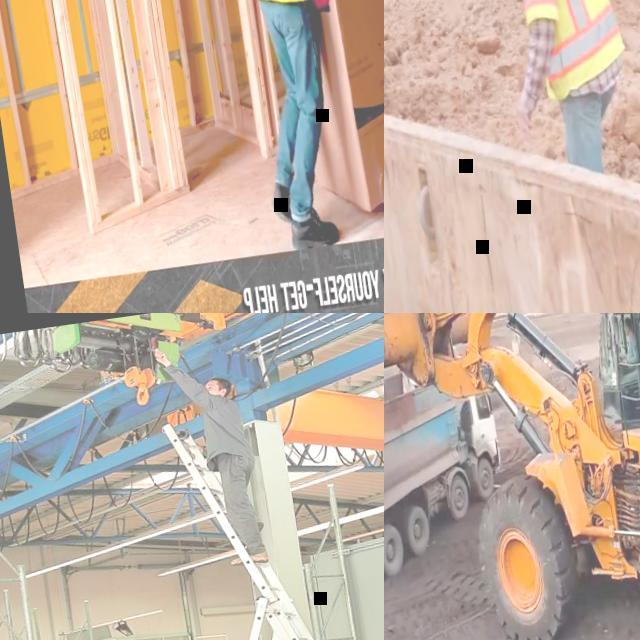vest: (499, 0, 629, 105)
